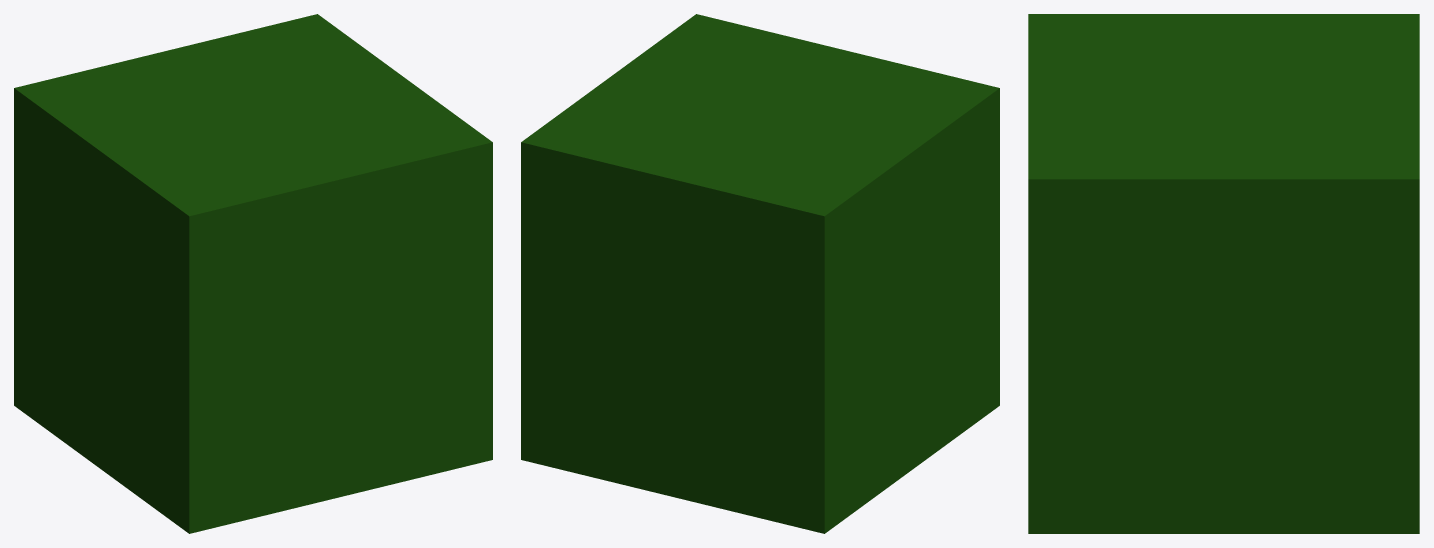
The model's file is GrassModel.fbx.
3 views of the same model, side by side, from view 1: azimuth 30°, elevation 25°; view 2: azimuth 150°, elevation 25°; view 3: azimuth 270°, elevation 25° (orthographic). The views are drawn at different scales.
Parts seen in each view (by area): view 1: Grass; view 2: Grass; view 3: Grass.
Part boxes in pixels (x1=…): Grass: x1=14, y1=14, x2=492, y2=533; Grass: x1=521, y1=14, x2=999, y2=533; Grass: x1=1028, y1=14, x2=1419, y2=533.
Size of the model in its own units: 200 by 200 by 200.
